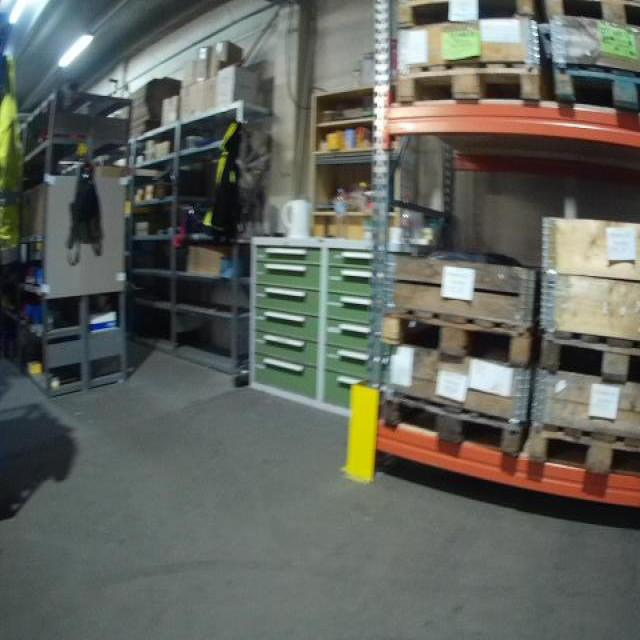pallet: (377, 309, 531, 371), (380, 391, 523, 456), (522, 422, 640, 476), (538, 326, 640, 385), (392, 63, 540, 103), (547, 63, 640, 111), (394, 0, 535, 31), (540, 0, 640, 28)
